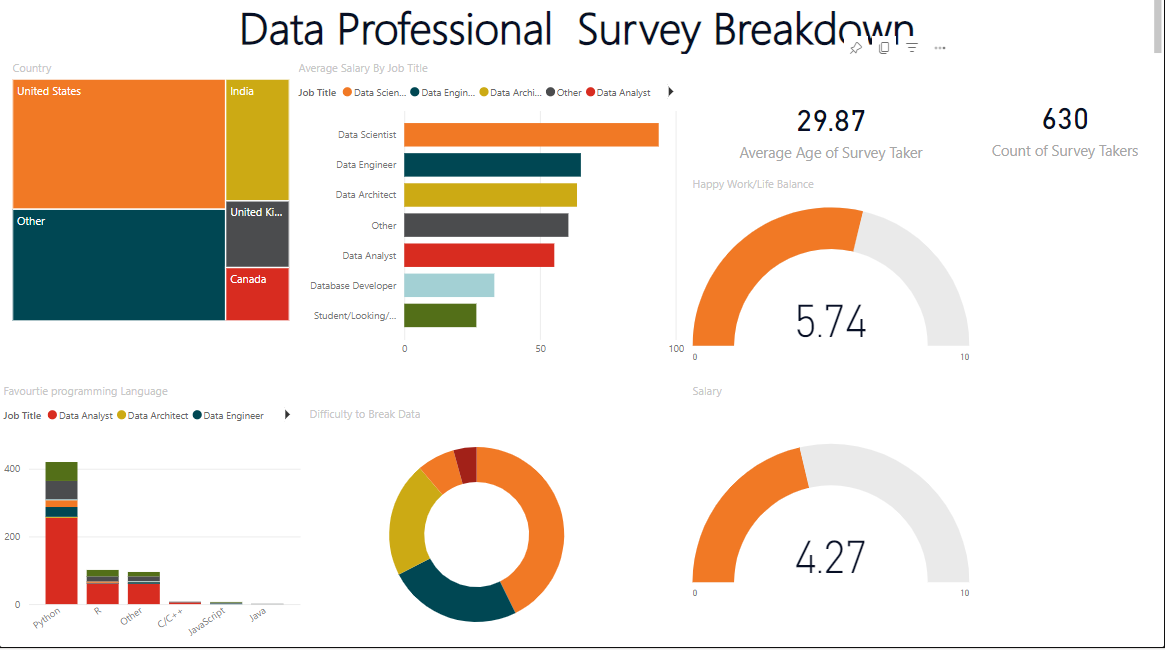

This screenshot's page, from the dashboard's own definition file:
{"tool":"powerbi","page":{"name":"Page 1","canvas":[1280,720],"ordinal":0},"visuals":[{"type":"textbox","box":[9.6,0,1270.7,72.7],"z":0},{"type":"card","fields":{"Values":["Count(Data Professional Survey.Unique ID)"]},"box":[1060.7,72.7,219.6,149.6],"z":1},{"type":"card","fields":{"Values":["Avg(Data Professional Survey.Q10 - Current Age)"]},"box":[779.4,74.1,267.6,149.6],"z":2},{"type":"barChart","title":"Average Salary By Job Title","fields":{"Category":["Data Professional Survey.Q1 - Which Title Best Fits your Current Role?.1"],"Y":["Avg(Data Professional Survey.Average Salary)"],"Series":["Data Professional Survey.Q1 - Which Title Best Fits your Current Role?.1"]},"box":[323.6,74.2,432.8,334.8],"z":3},{"type":"columnChart","title":"Favourtie programming Language","fields":{"Category":["Data Professional Survey.Q5 - Favorite Programming Language.1"],"Y":["CountNonNull(Data Professional Survey.Unique ID)"],"Series":["Data Professional Survey.Q1 - Which Title Best Fits your Current Role?.1"]},"box":[0,428.6,336.2,291.4],"z":4},{"type":"treemap","title":"Country","fields":{"Group":["Data Professional Survey.Q11 - Which Country do you live in?.1"],"Values":["CountNonNull(Data Professional Survey.Q11 - Which Country do you live in?.1)"]},"box":[9.8,74.2,313.8,291.4],"z":5},{"type":"gauge","title":"Happy Work/Life Balance","fields":{"Y":["Avg(Data Professional Survey.Q6 - How Happy are you in your Current Position with the following? (Work/Life Balance))"],"MinValue":["Min(Data Professional Survey.Q6 - How Happy are you in your Current Position with the following? (Work/Life Balance))"],"MaxValue":["Max(Data Professional Survey.Q6 - How Happy are you in your Current Position with the following? (Work/Life Balance))1"]},"box":[756.4,201.7,313.8,226.9],"z":6},{"type":"gauge","title":"Salary","fields":{"Y":["Avg(Data Professional Survey.Q6 - How Happy are you in your Current Position with the following? (Salary))"],"MinValue":["Min(Data Professional Survey.Q6 - How Happy are you in your Current Position with the following? (Salary))1"],"MaxValue":["Max(Data Professional Survey.Q6 - How Happy are you in your Current Position with the following? (Upward Mobility))"]},"box":[756.4,428.6,313.8,291.4],"z":7},{"type":"donutChart","title":"Difficulty to Break Data","fields":{"Category":["Data Professional Survey.Q7 - How difficult was it for you to break into Data?"],"Y":["CountNonNull(Data Professional Survey.Average Salary)"]},"box":[336.2,453.8,376.8,266.1],"z":8}]}

Visuals, with their boxes on the page's 1280x720 design canvas (x1, y1, x2, y2). These are canvas units, not pixel positions in the 1165x650 screenshot, which may show the page scaled, cropped or inside an application window:
textbox: x1=10, y1=0, x2=1280, y2=73
card - Count(Data Professional Survey.Unique ID): x1=1061, y1=73, x2=1280, y2=222
card - Avg(Data Professional Survey.Q10 - Current Age): x1=779, y1=74, x2=1047, y2=224
"Average Salary By Job Title" barChart: x1=324, y1=74, x2=756, y2=409
"Favourtie programming Language" columnChart: x1=0, y1=429, x2=336, y2=720
"Country" treemap: x1=10, y1=74, x2=324, y2=366
"Happy Work/Life Balance" gauge: x1=756, y1=202, x2=1070, y2=429
"Salary" gauge: x1=756, y1=429, x2=1070, y2=720
"Difficulty to Break Data" donutChart: x1=336, y1=454, x2=713, y2=720
